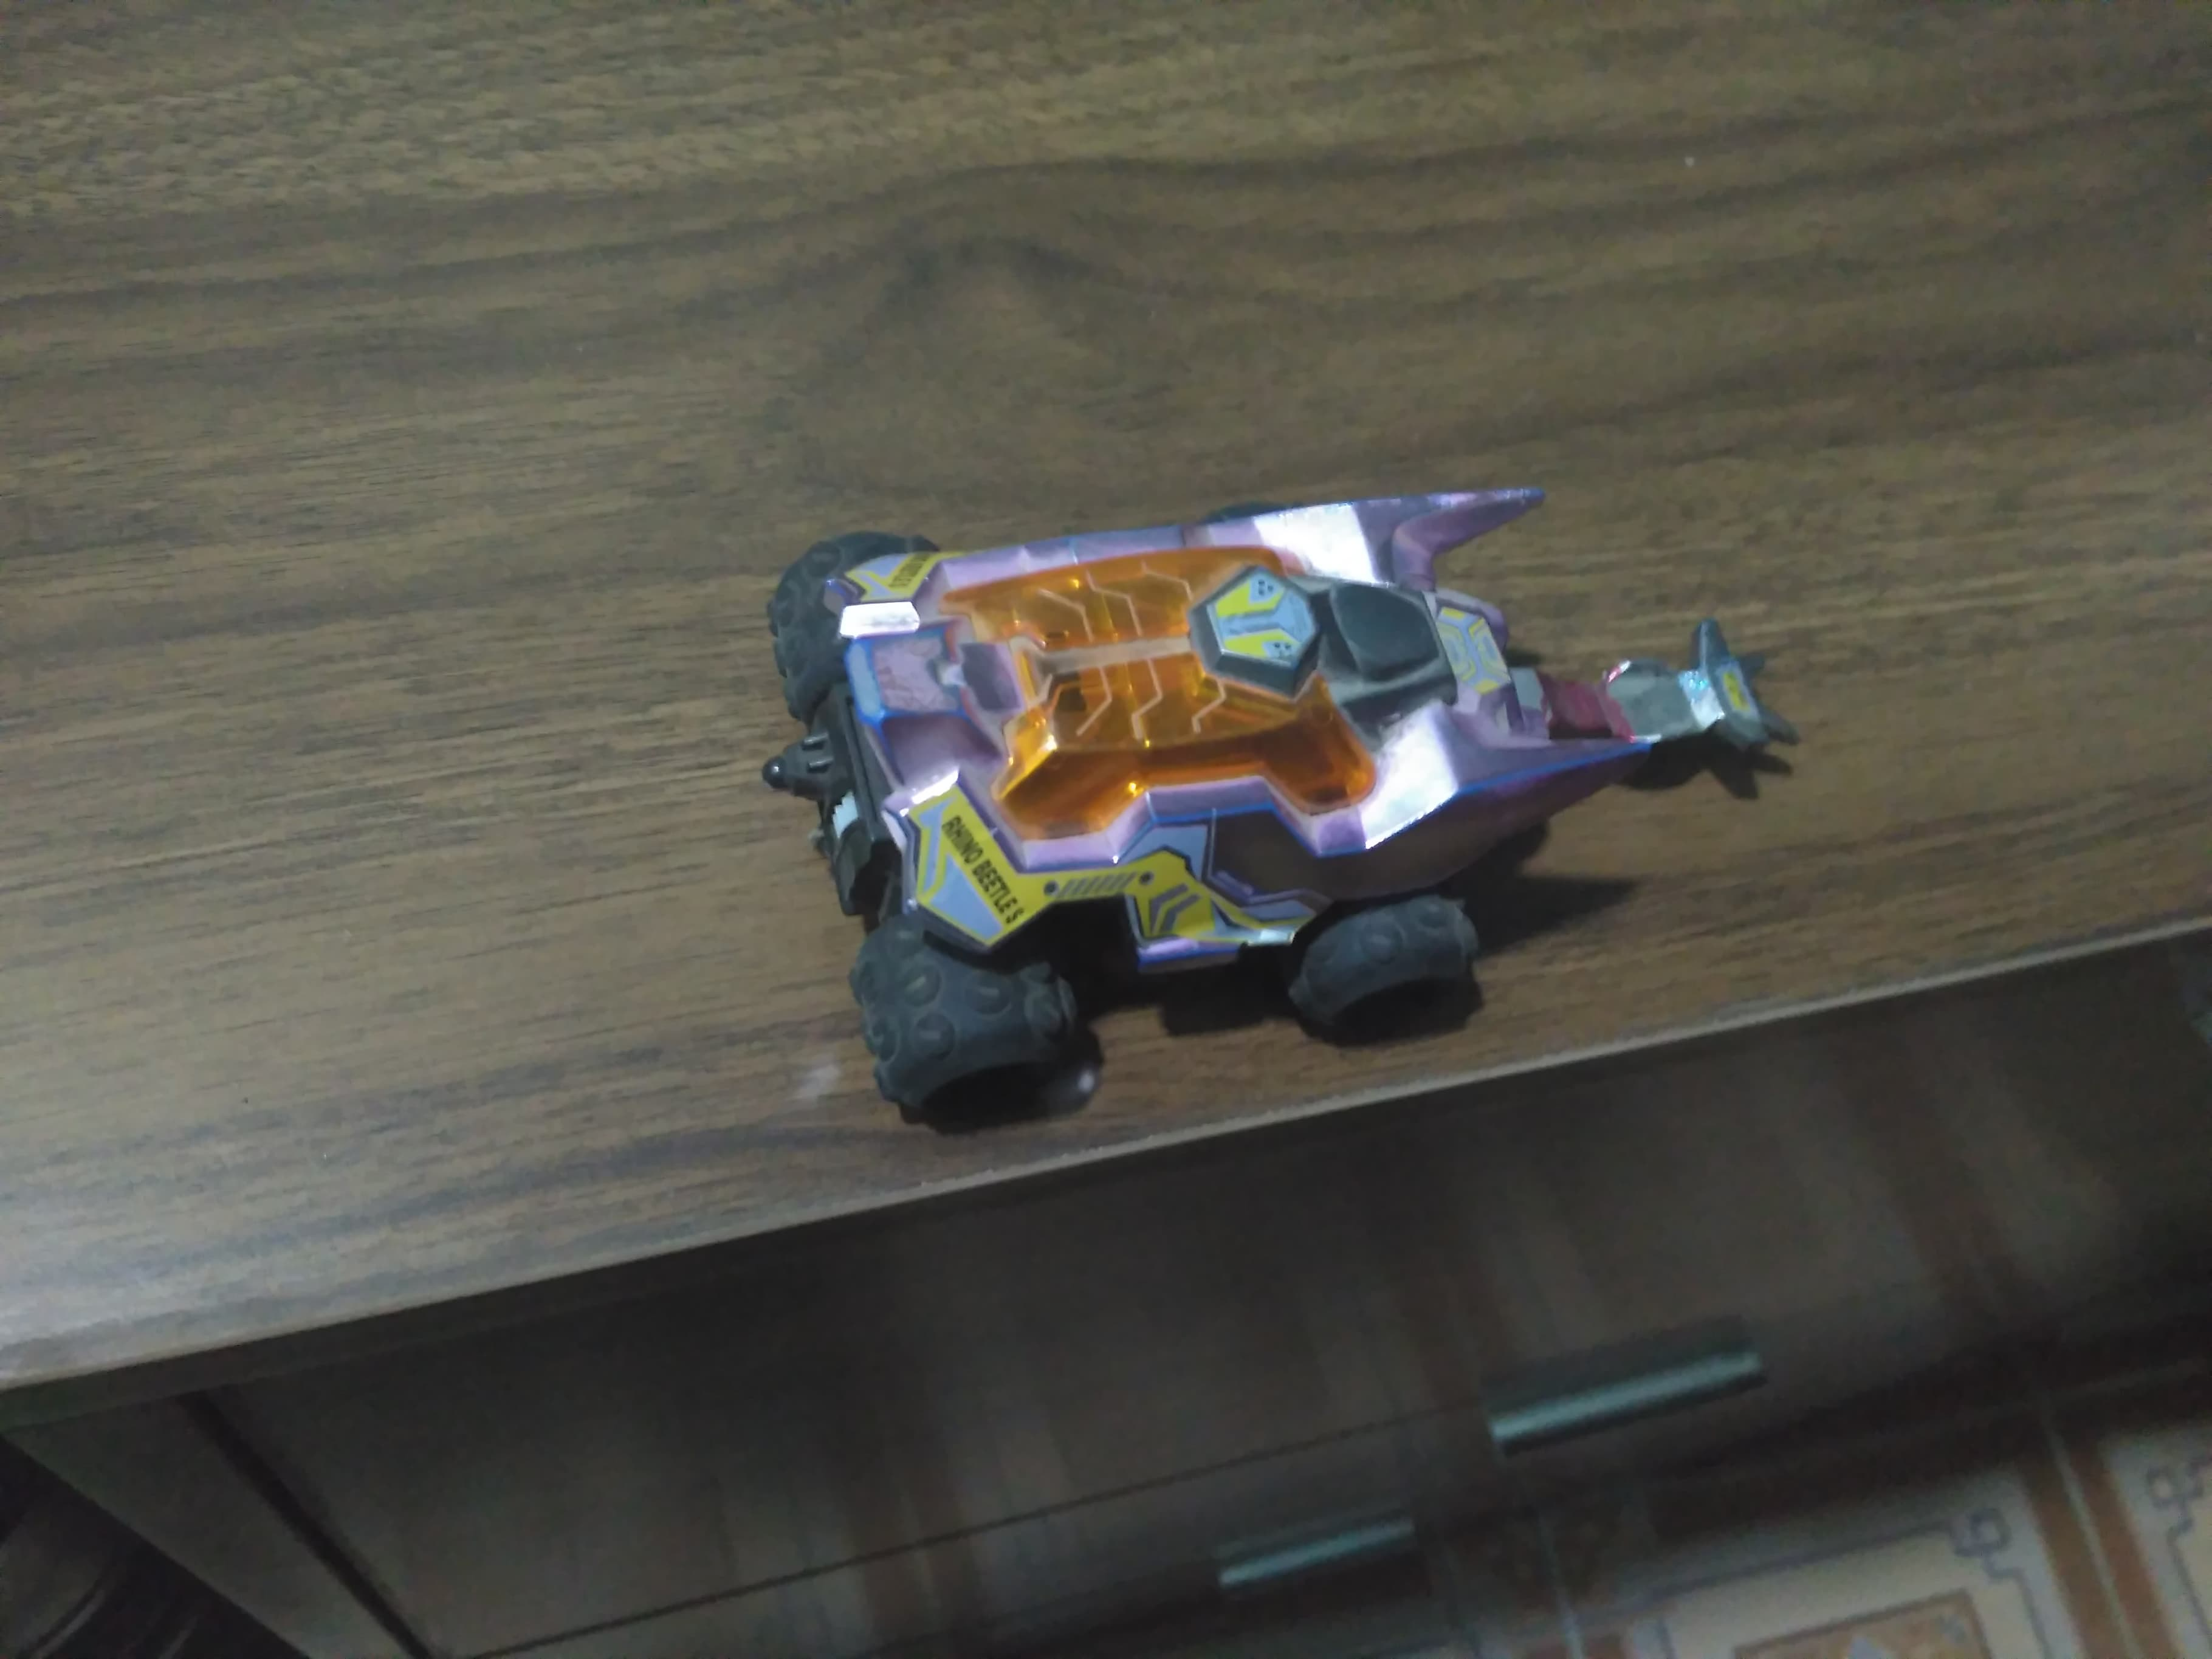rhino: (758, 481, 1813, 1148)
